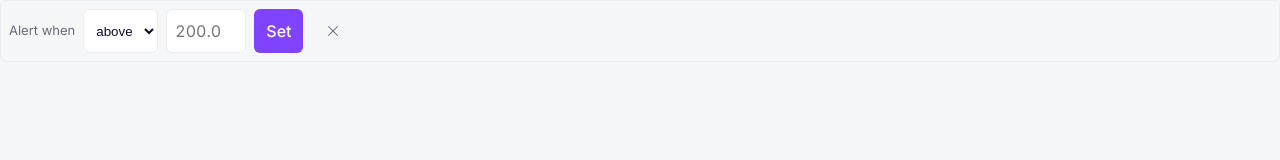
AlertForm › refuses a value below the floor the message states
This screenshot has width=1280, height=160.
Type "0.005" into the number field named "Price threshold for AAPL alert" at [206, 31], box [166,9,246,53]
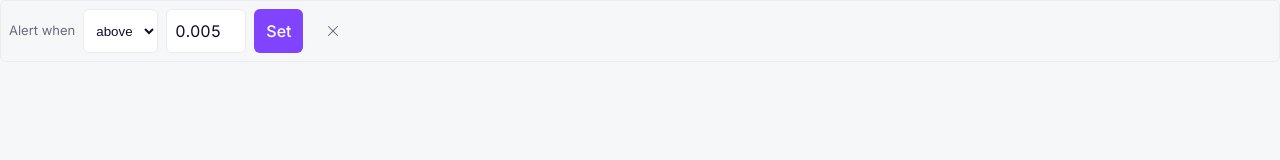
Submit the form named "Price threshold for AAPL alert", box [0,0,1279,62]
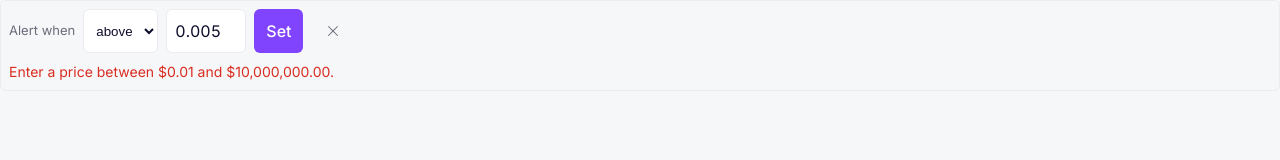
Expected: the message reads "Enter a price between $0.01 and $10,000,000.00.", [9,63,334,80]
